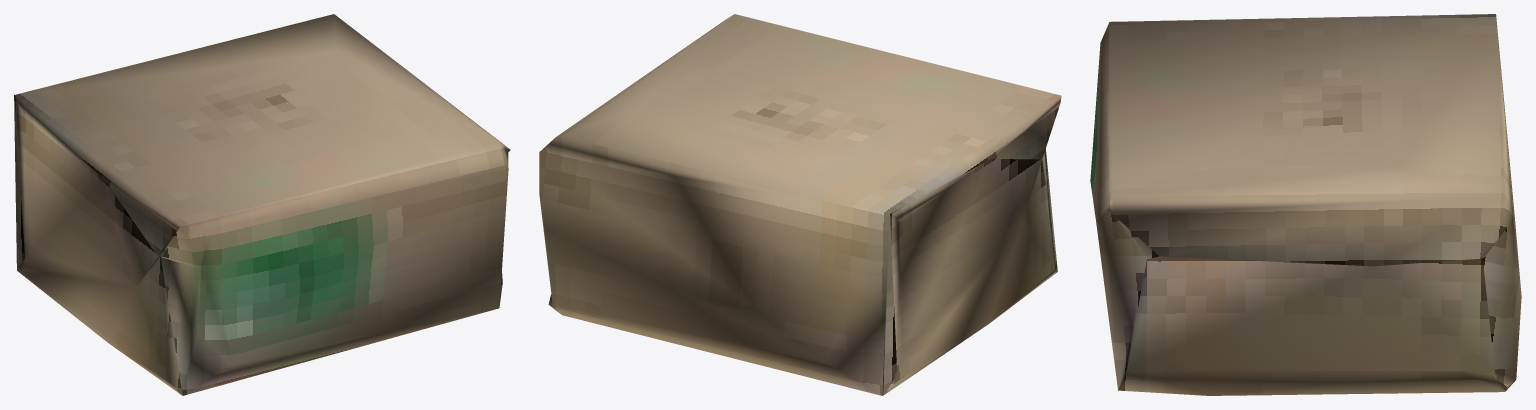
Rendered from INTERNATIONAL_PAPER_Willamette_4_Brown_Bag_500Count-low.glb.
3 renders of one model, left to right at view 1: azimuth 30°, elevation 25°; view 2: azimuth 150°, elevation 25°; view 3: azimuth 270°, elevation 25°, orthographic. The views are drawn at different scales.
Visible parts, largest first — view 1: INTERNATIONAL_PAPER_Willamette_4_Brown_Bag_500Count; view 2: INTERNATIONAL_PAPER_Willamette_4_Brown_Bag_500Count; view 3: INTERNATIONAL_PAPER_Willamette_4_Brown_Bag_500Count.
Boxes of the visible parts, x1,y1,x2,y2 form: INTERNATIONAL_PAPER_Willamette_4_Brown_Bag_500Count: [14, 14, 510, 395]; INTERNATIONAL_PAPER_Willamette_4_Brown_Bag_500Count: [539, 14, 1061, 395]; INTERNATIONAL_PAPER_Willamette_4_Brown_Bag_500Count: [1090, 14, 1521, 395].
Size of the model in its own units: 0.2685 by 0.1388 by 0.256.
1 material, 1 textured.
